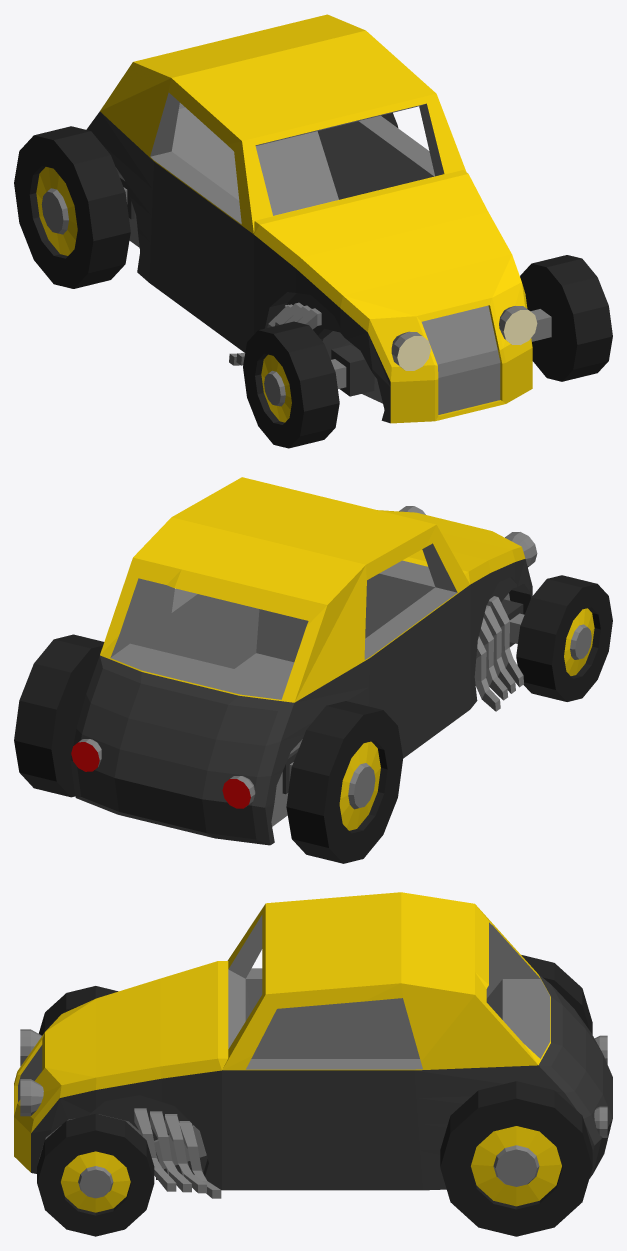
File: Stadtrod.fbx
3 views of the same model, one above another, from view 1: azimuth 30°, elevation 25°; view 2: azimuth 150°, elevation 25°; view 3: azimuth 270°, elevation 25° (orthographic). The views are drawn at different scales.
Visible parts, largest first — view 1: Cube, Model_0.001, Model_0.000, Model_0.003; view 2: Cube, Model_0.001, Model_0.000, Model_0.002; view 3: Cube, Model_0.002, Model_0.003, Model_0.001, Model_0.000.
Boxes of the visible parts, x1,y1,x2,y2 form: Cube: (86,14,551,423); Model_0.001: (14,126,130,288); Model_0.000: (243,321,339,448); Model_0.003: (520,255,612,381); Cube: (70,477,537,845); Model_0.001: (286,701,403,863); Model_0.000: (516,575,612,701); Model_0.002: (14,634,104,797); Cube: (14,892,612,1198); Model_0.002: (440,1081,592,1236); Model_0.003: (37,1113,154,1236); Model_0.001: (521,955,592,1034); Model_0.000: (38,986,118,1035).
Bounding box in the file's own units: 350 × 253 × 606.
